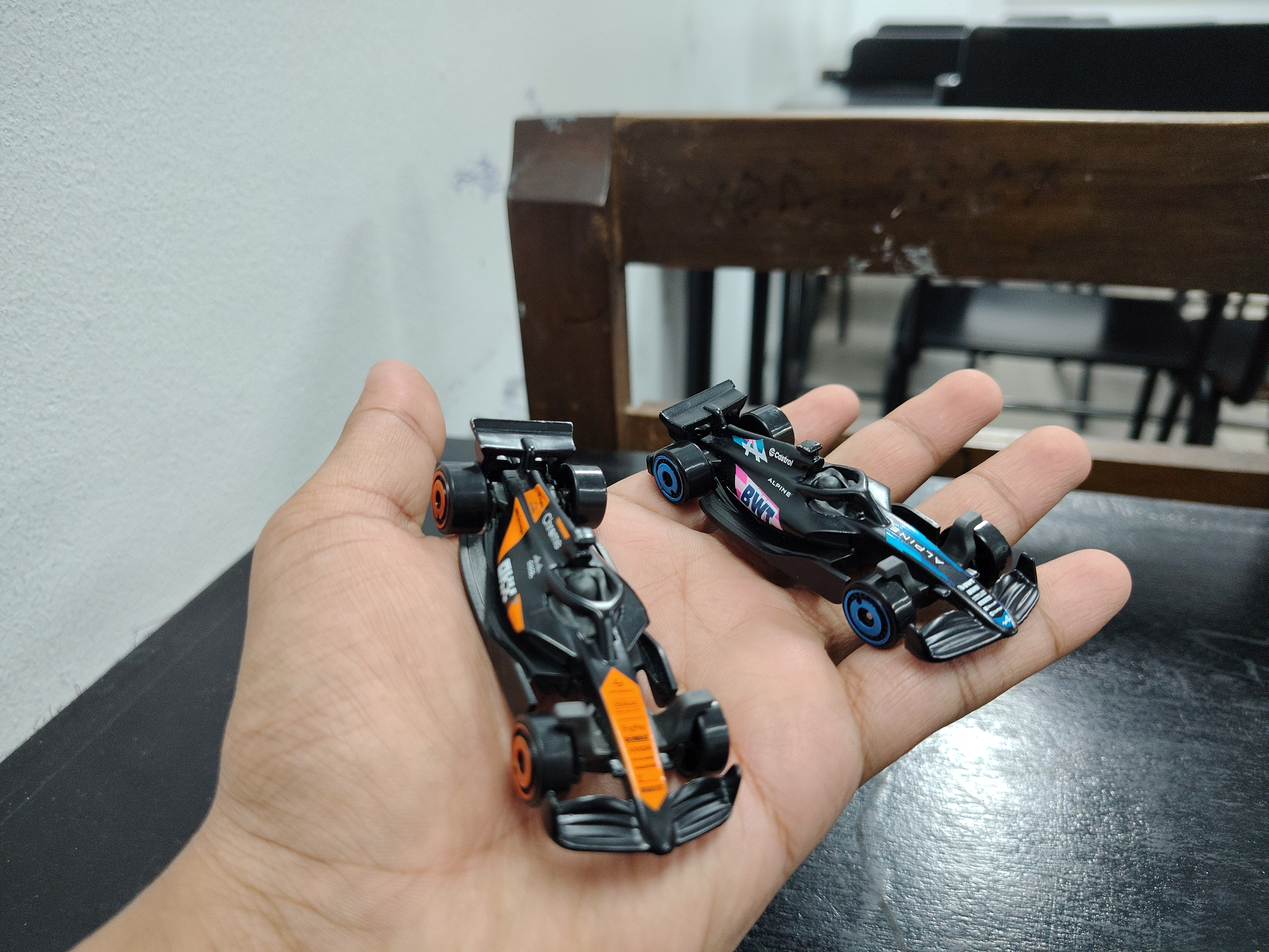Alpine A524: (598, 299, 1080, 659)
McLaren MCL40: (392, 359, 744, 841)
